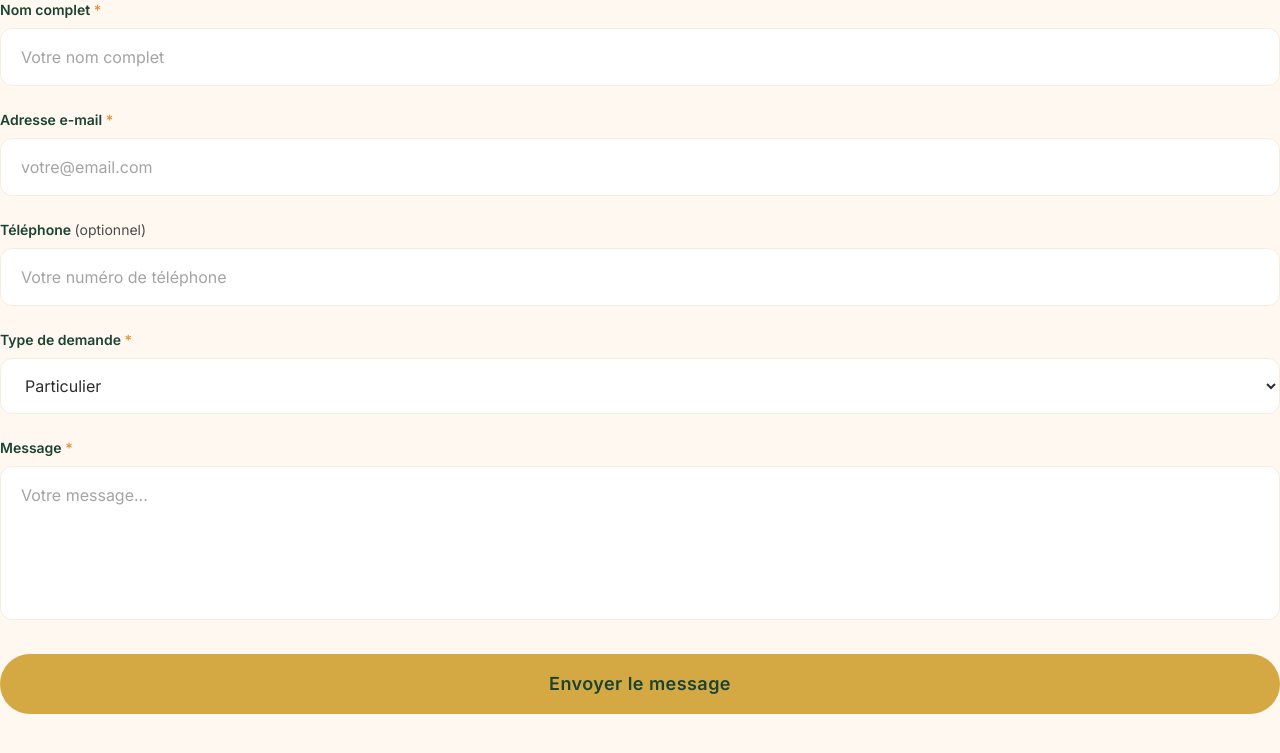
Scenario: ContactForm › shows error message and preserves data on submission failure
In the field labelled "Nom complet *": (640, 57) [0,28,1279,86], type "Jean Dupont"
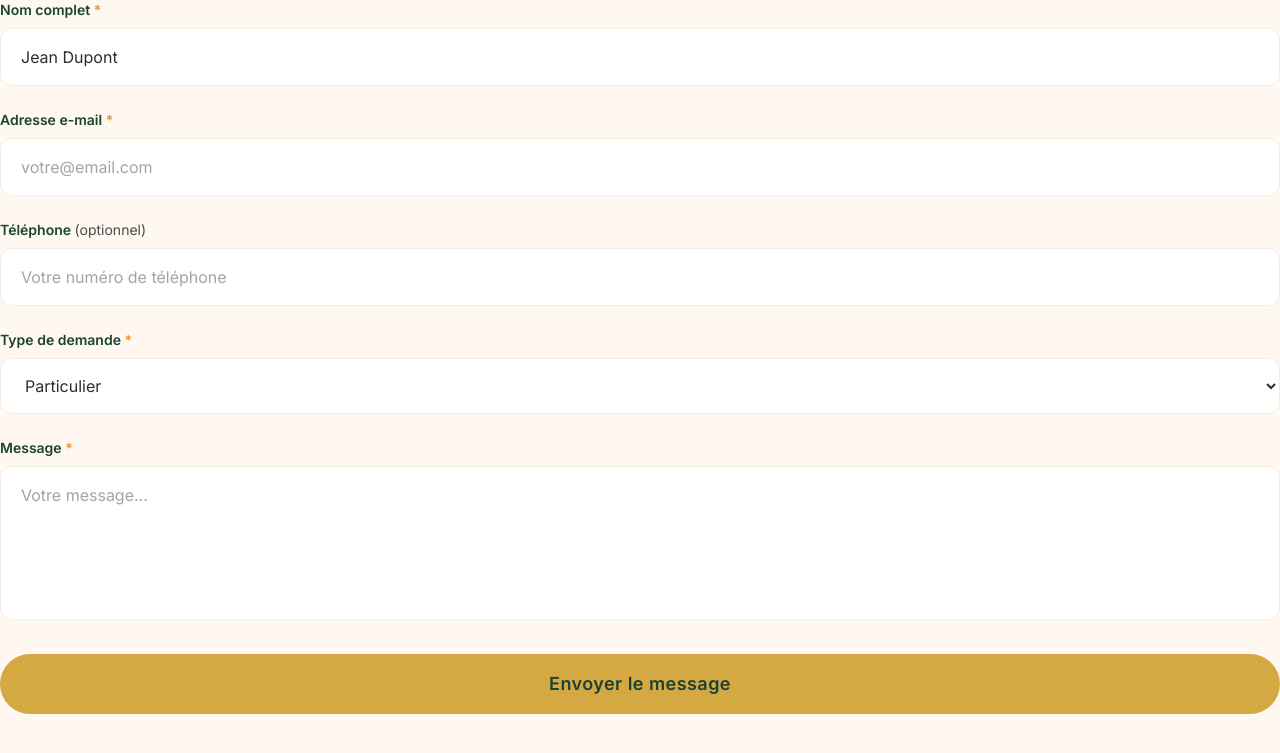
In the field labelled "Adresse e-mail *": (640, 167) [0,138,1279,196], type "jean@example.com"
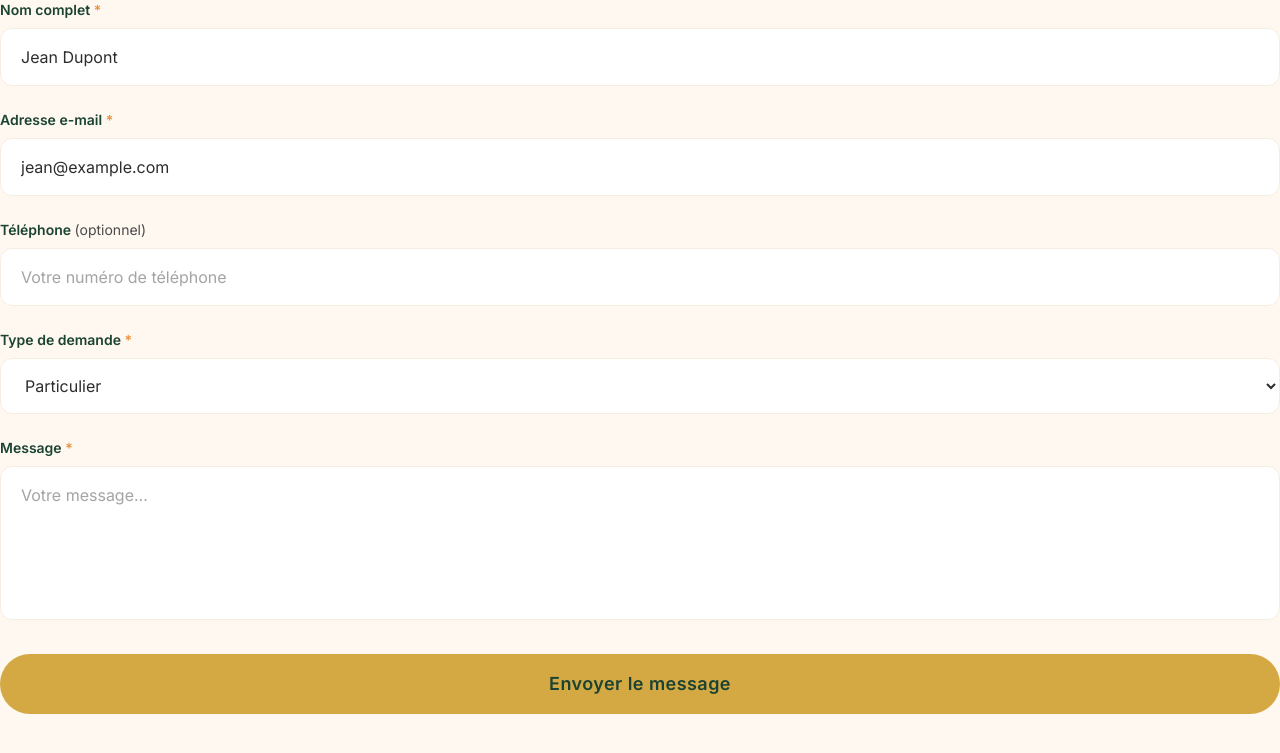
In the text box labelled "Message *": (640, 543) [0,466,1279,620], type "Bonjour"
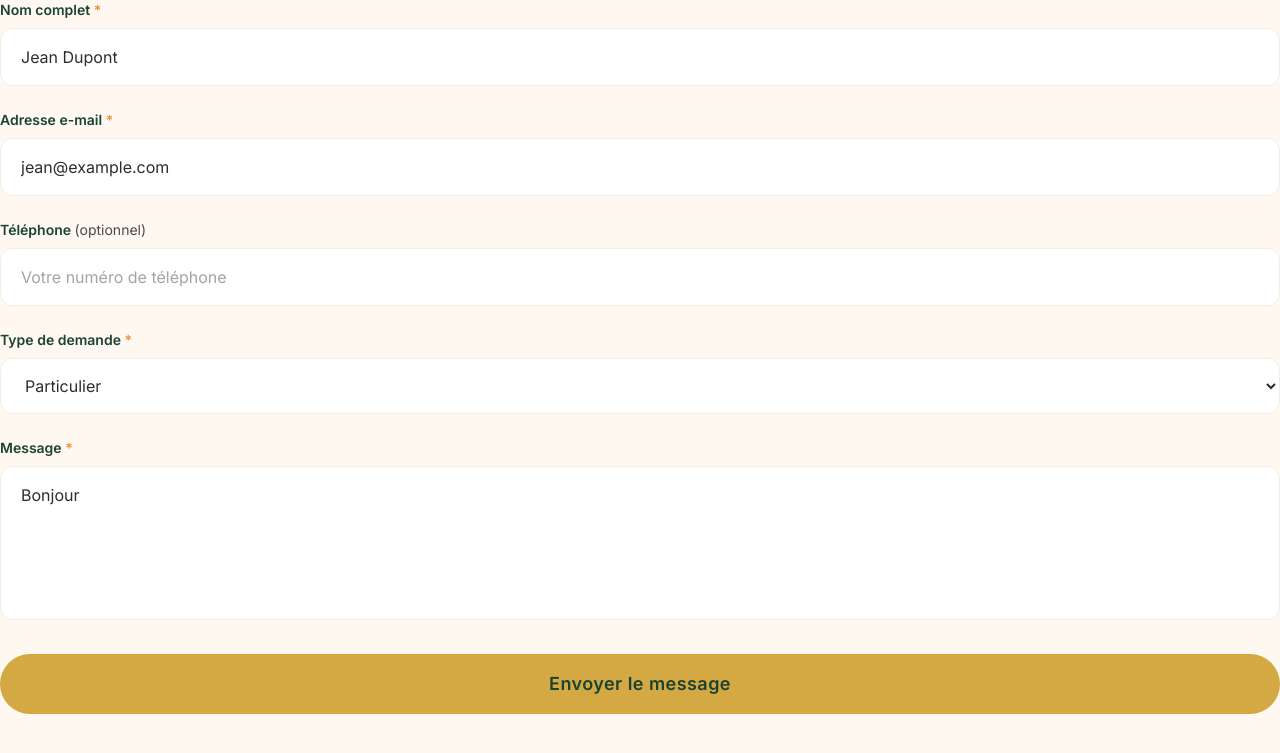
Click the button "Envoyer le message": (640, 684) [0,654,1279,714]
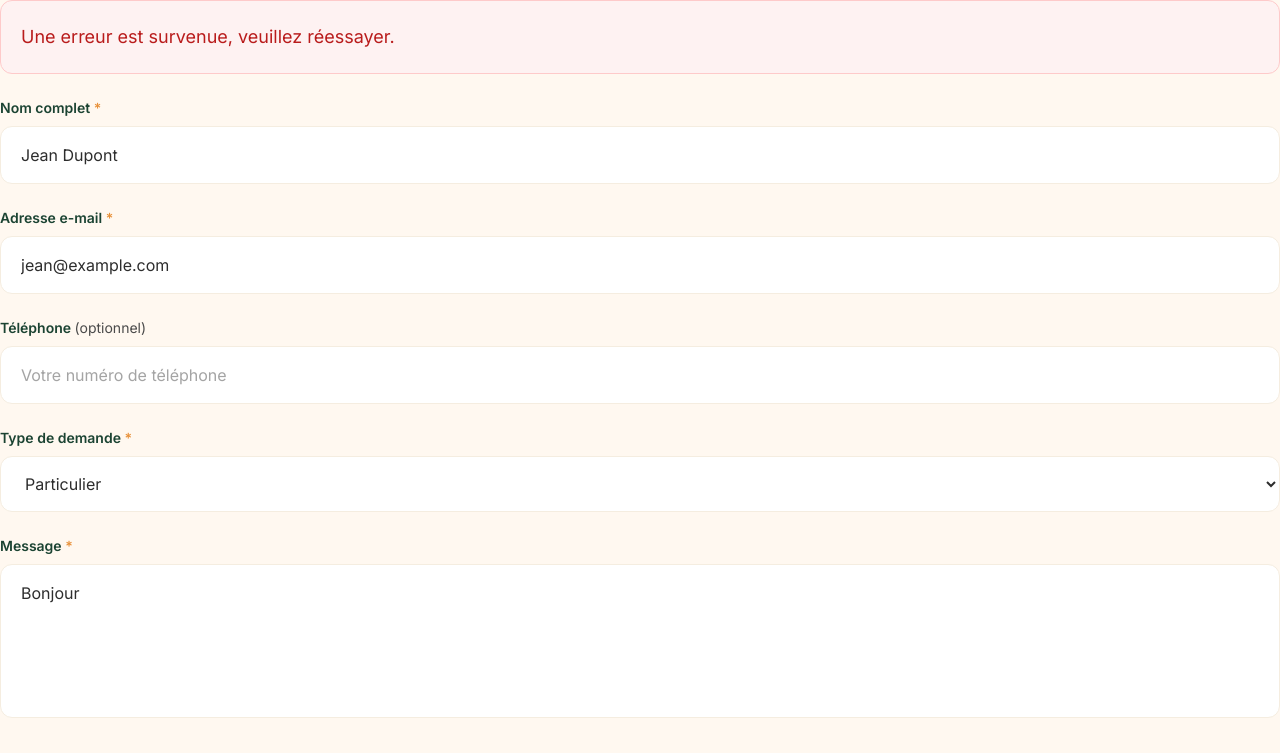
Expected: the text "Une erreur est survenue, veuillez réessayer." is shown, [0,0,1279,74]
